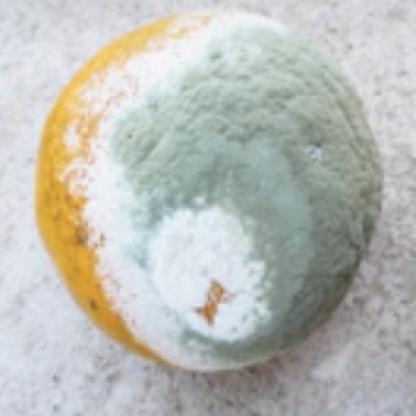rotten: (39, 14, 384, 377)
